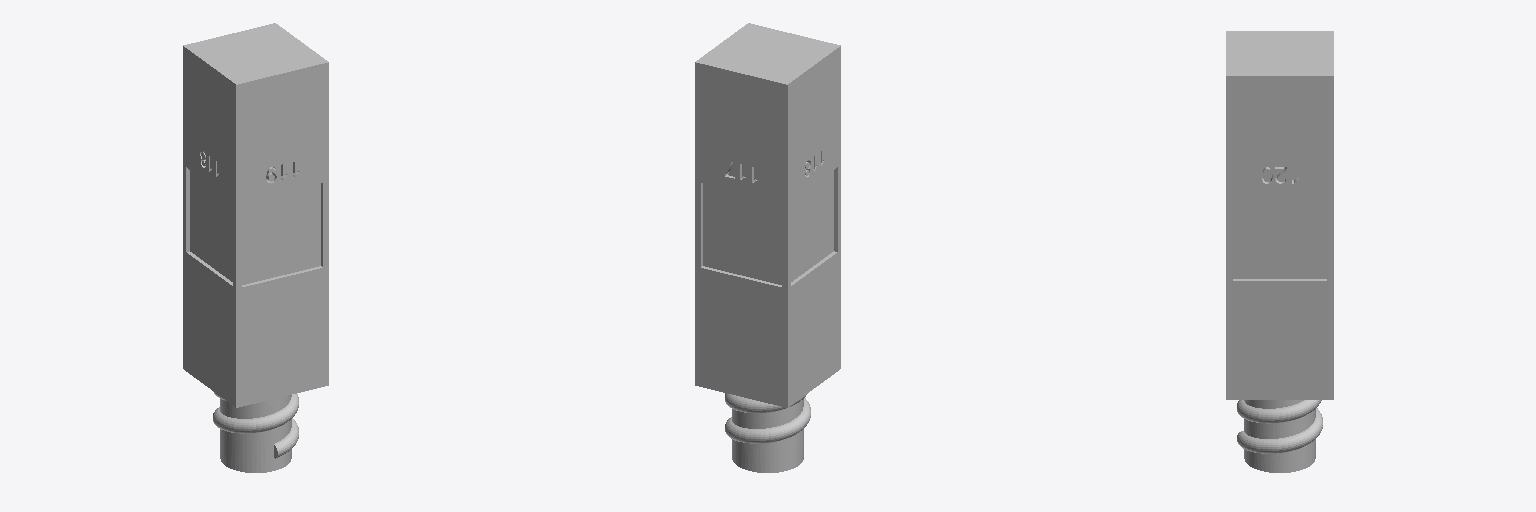
File: desk_leg2.obj
3 renders of one model, left to right at view 1: azimuth 30°, elevation 25°; view 2: azimuth 150°, elevation 25°; view 3: azimuth 270°, elevation 25°, orthographic.
Parts seen in each view (by area): view 1: desk_leg2, desk_leg2.003, desk_leg2.002; view 2: desk_leg2, desk_leg2.001, desk_leg2.002; view 3: desk_leg2, desk_leg2.004.
Part boxes in pixels (bbox=[...]): desk_leg2: bbox=[183, 23, 328, 472]; desk_leg2.003: bbox=[242, 183, 322, 286]; desk_leg2.002: bbox=[186, 167, 232, 285]; desk_leg2: bbox=[695, 23, 840, 472]; desk_leg2.001: bbox=[701, 183, 781, 286]; desk_leg2.002: bbox=[791, 167, 837, 285]; desk_leg2: bbox=[1226, 31, 1333, 472]; desk_leg2.004: bbox=[1233, 196, 1326, 280].
Size of the model in its own units: 0.03 by 0.125 by 0.03.